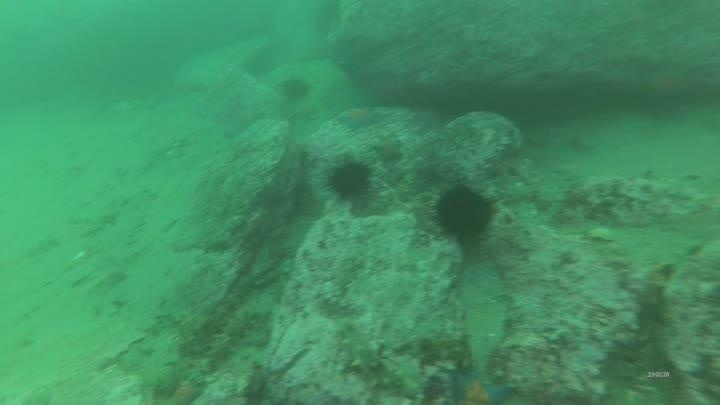echinus: (430, 181, 498, 245), (325, 157, 374, 203), (277, 74, 313, 106)
holothurian: (333, 316, 425, 402), (204, 298, 272, 367), (413, 332, 474, 370)
starfish: (443, 364, 517, 403), (334, 104, 381, 132), (370, 135, 406, 165), (168, 378, 206, 405)
